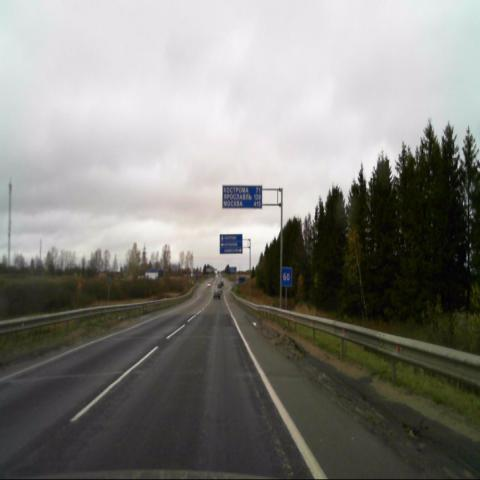6_2: (280, 265, 292, 287)
